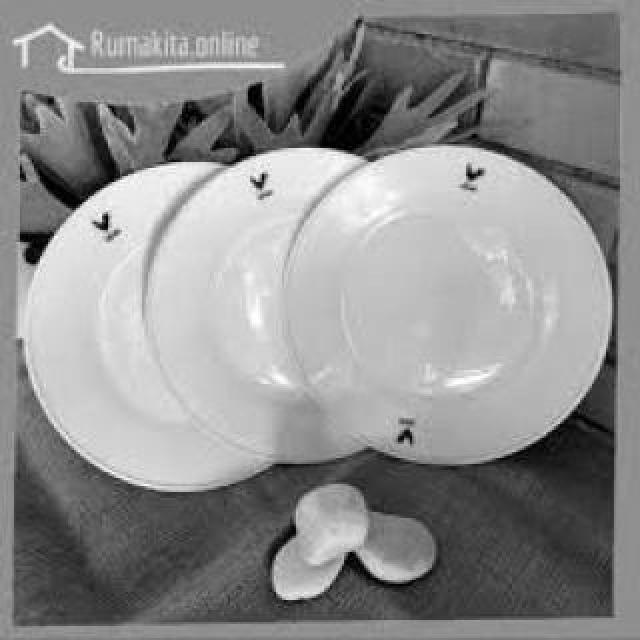plate: (15, 71, 621, 503)
